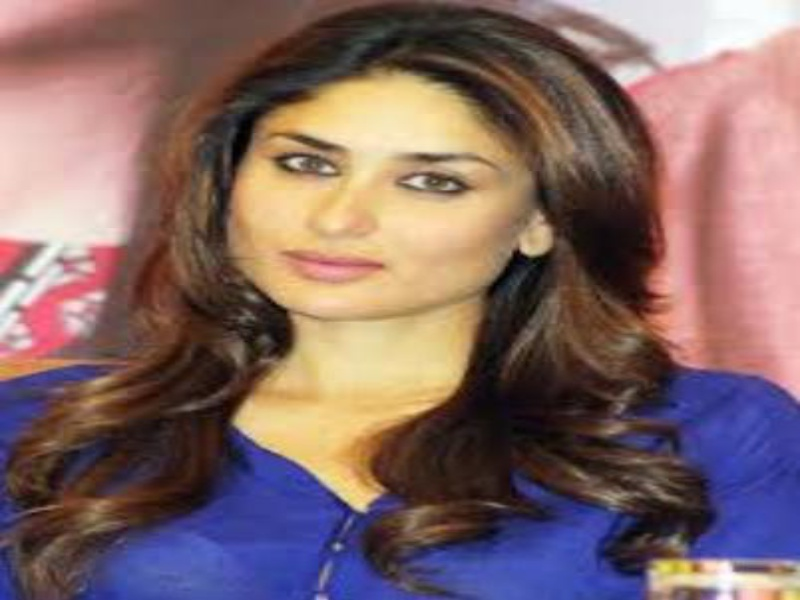TsisyArotava: (204, 21, 587, 338)
